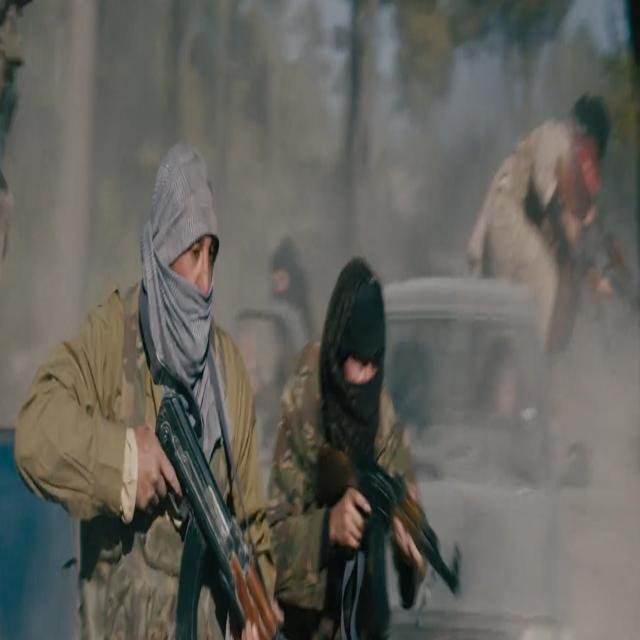terrorist: (16, 143, 288, 639), (266, 258, 463, 639), (467, 96, 629, 355)
